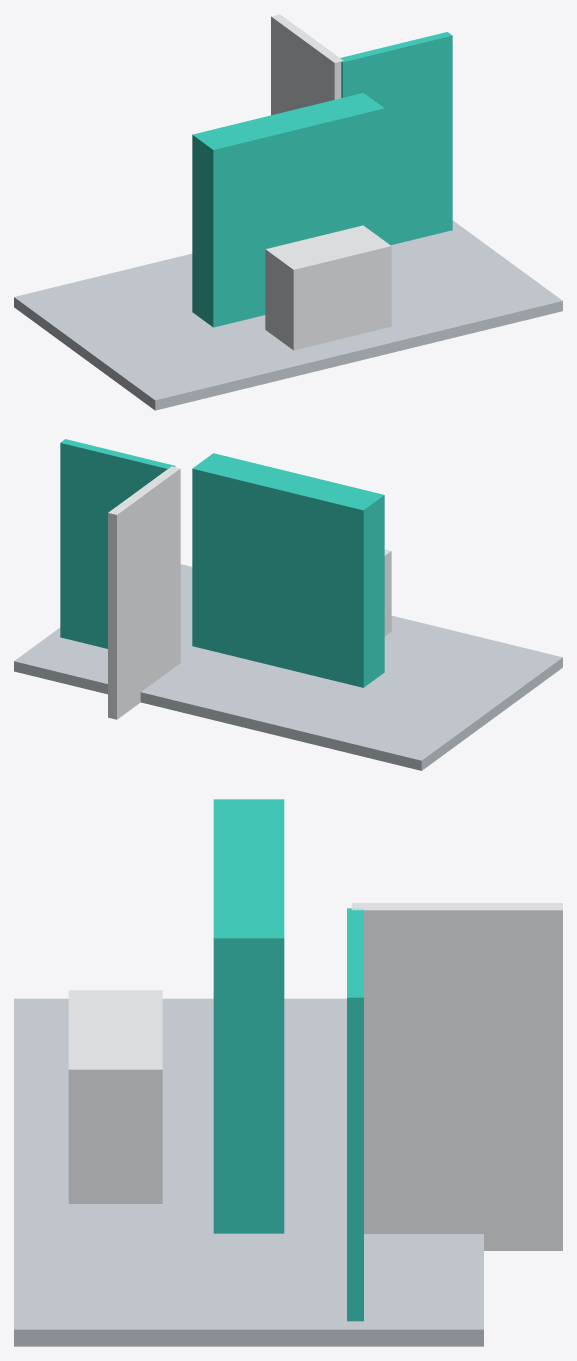
The picture shows the model from 3 angles, top to bottom: view 1: azimuth 30°, elevation 25°; view 2: azimuth 150°, elevation 25°; view 3: azimuth 270°, elevation 25°; orthographic projection. The views are drawn at different scales.
Visible parts, largest first — view 1: Exhibition Booth Concept; view 2: Exhibition Booth Concept; view 3: Exhibition Booth Concept.
Part boxes in pixels (x1=…): Exhibition Booth Concept: x1=14, y1=14, x2=562, y2=410; Exhibition Booth Concept: x1=14, y1=439, x2=562, y2=770; Exhibition Booth Concept: x1=14, y1=799, x2=562, y2=1346.
Bounding box in the file's own units: 5 × 2.4 × 3.51.
